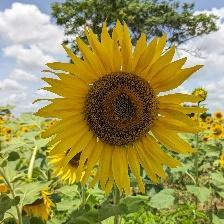sunflower: (36, 17, 208, 195)
